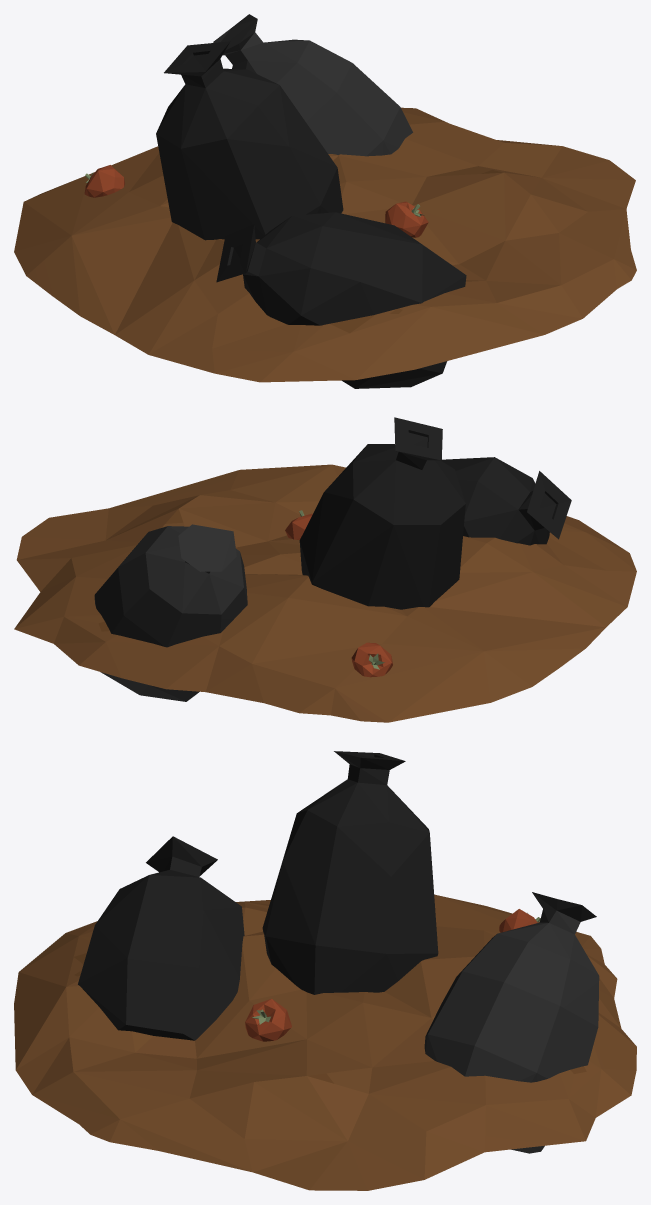
Rendered from SM_Props_Garbage_02.fbx.
3 renders of one model, top to bottom at view 1: azimuth 30°, elevation 25°; view 2: azimuth 150°, elevation 25°; view 3: azimuth 270°, elevation 25°, orthographic. The views are drawn at different scales.
Parts seen in each view (by area): view 1: SM_Props_Garbage_02; view 2: SM_Props_Garbage_02; view 3: SM_Props_Garbage_02.
Part boxes in pixels (<box>): SM_Props_Garbage_02: <box>14,14,636,388</box>; SM_Props_Garbage_02: <box>14,417,636,722</box>; SM_Props_Garbage_02: <box>14,751,636,1190</box>.
Bounding box in the file's own units: 1.48 × 0.7469 × 1.33.
